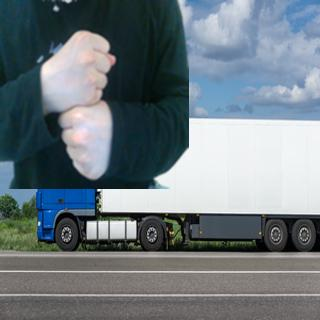CAREFUL: (39, 24, 119, 184)
